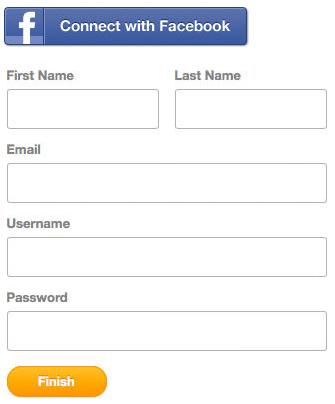button: (8, 365, 108, 396)
field: (6, 161, 328, 204), (5, 235, 328, 277), (6, 310, 328, 351), (173, 87, 328, 131), (5, 87, 159, 131)
field_with_label: (5, 142, 330, 205), (4, 290, 329, 353), (3, 217, 330, 279), (171, 69, 330, 132), (3, 70, 160, 132)
